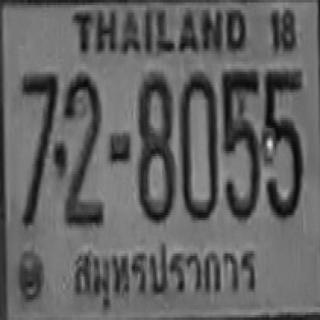N00: (178, 70, 216, 219)
N02: (59, 70, 102, 224)
N05: (262, 68, 302, 216), (220, 69, 258, 220)
N07: (20, 70, 57, 224), (20, 72, 57, 182)
N08: (136, 72, 173, 220)
P57: (70, 235, 264, 312)
